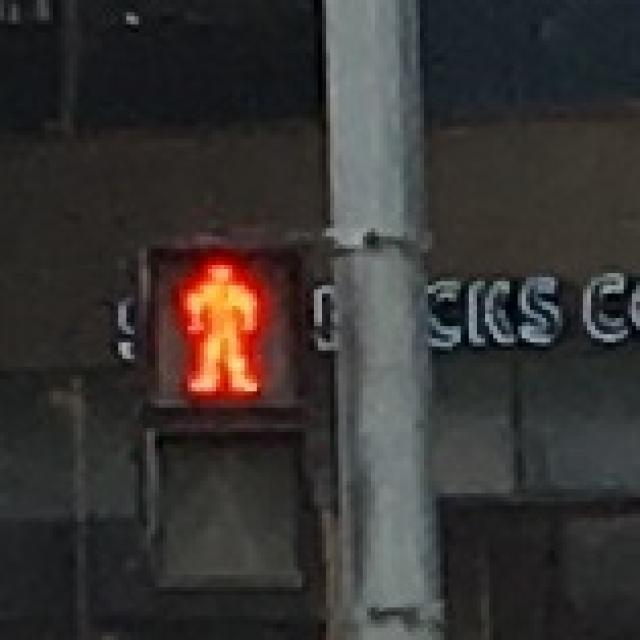red-crossing: (146, 245, 290, 400)
